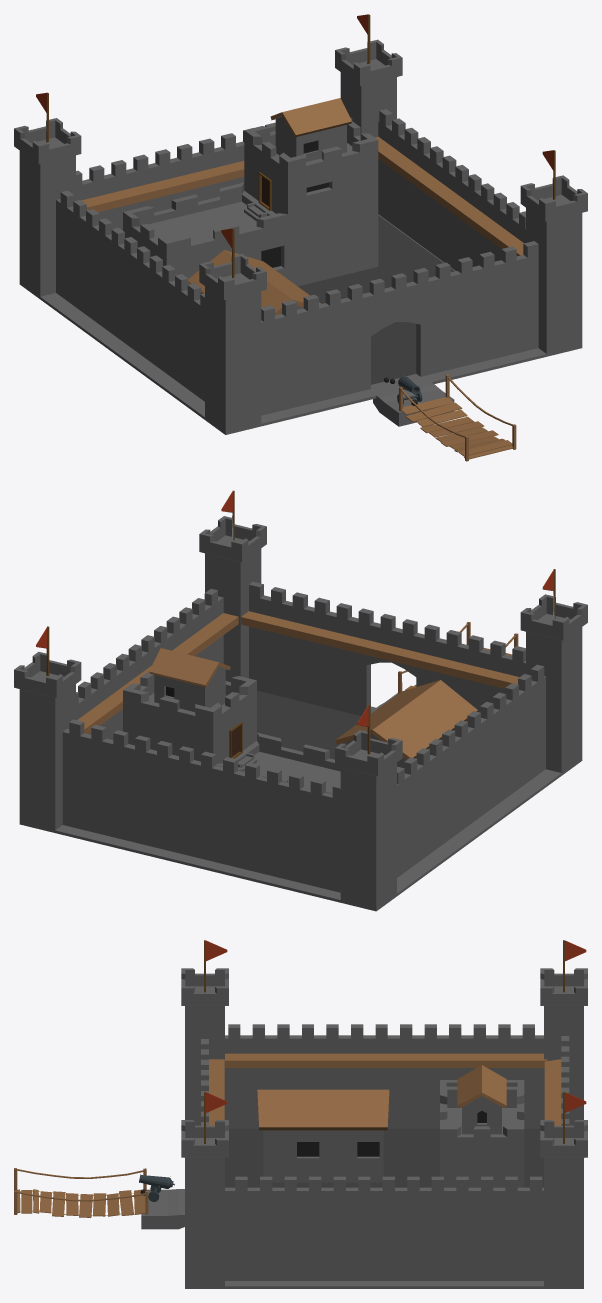
File: castle_.glb
The picture shows the model from 3 angles, top to bottom: view 1: azimuth 30°, elevation 25°; view 2: azimuth 150°, elevation 25°; view 3: azimuth 270°, elevation 25°; orthographic projection. The views are drawn at different scales.
Bounding box in the file's own units: 204 × 111 × 288.
1 material, 1 textured.
